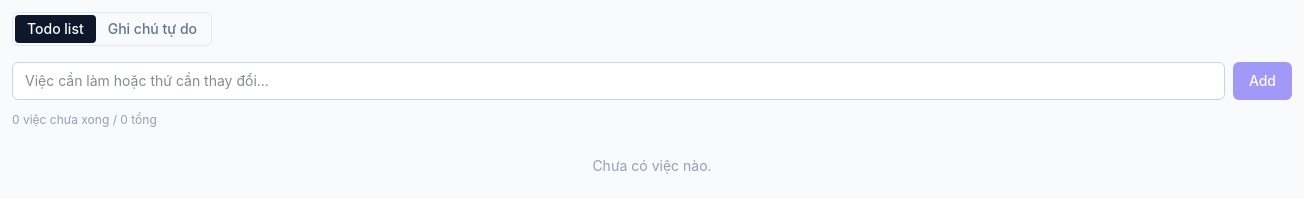
it: NotesTool todo list › adds one item per click
In the field with placeholder "Việc cần làm hoặc thứ cần thay đổi...": coordinates (618, 81) [12, 62, 1225, 100], type "Buy milk"
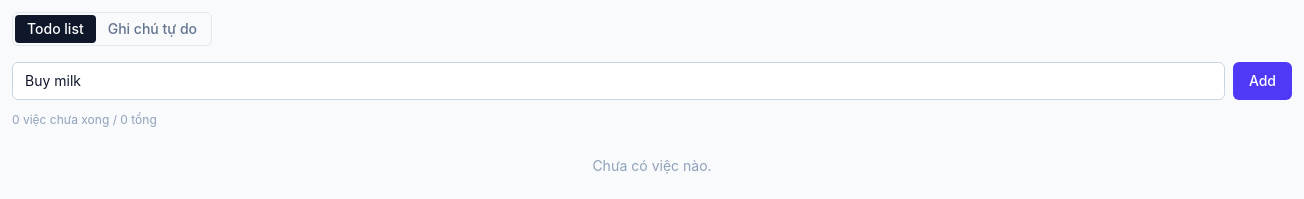
Click the button "Add": coordinates (1262, 81) [1233, 62, 1292, 100]
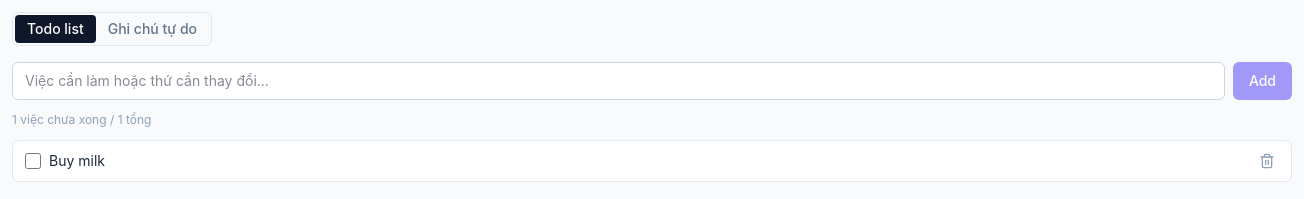
Now the text "Buy milk" is shown once, box [49, 152, 105, 169]
